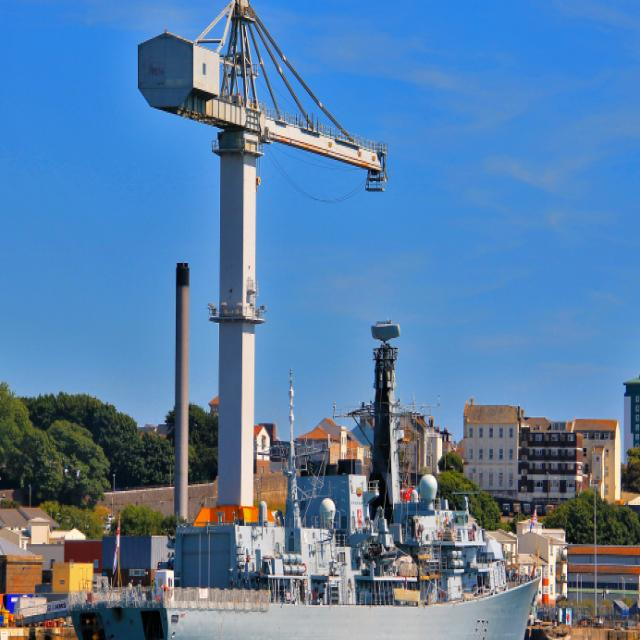Fragata: (68, 305, 543, 640)
